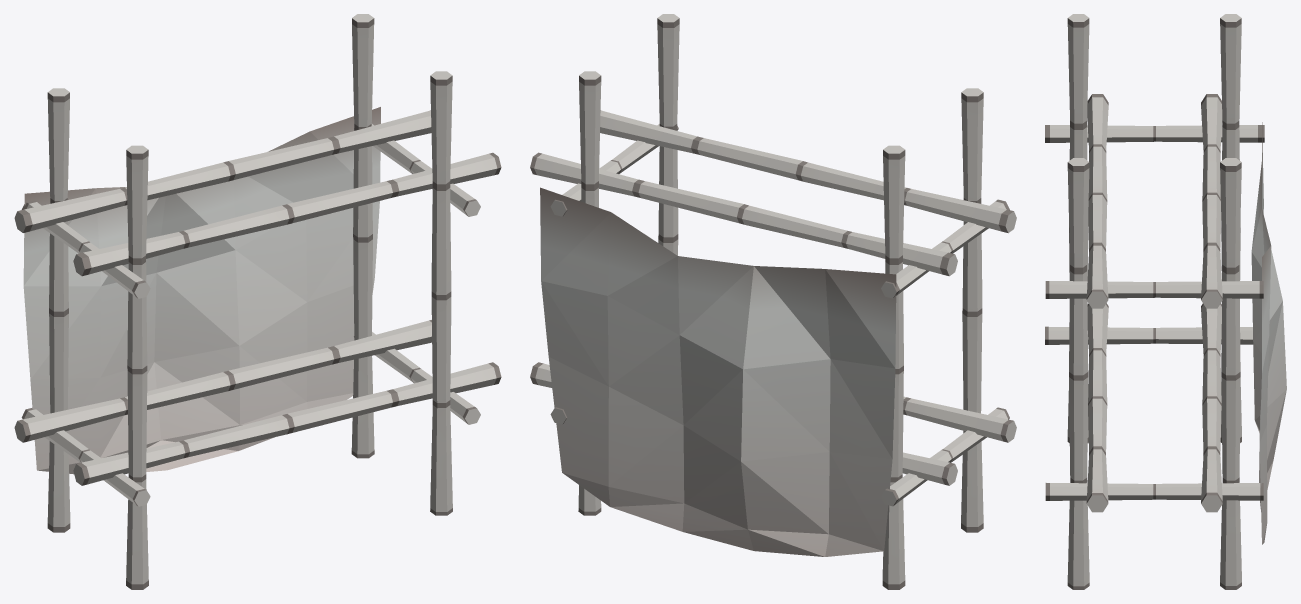
File: Bamboo_forest_1_fabric.fbx
3 renders of one model, left to right at view 1: azimuth 30°, elevation 25°; view 2: azimuth 150°, elevation 25°; view 3: azimuth 270°, elevation 25°, orthographic. The views are drawn at different scales.
Visible parts, largest first — view 1: Bamboo_forest_1_fabric; view 2: Bamboo_forest_1_fabric; view 3: Bamboo_forest_1_fabric.
Part boxes in pixels (<box>): Bamboo_forest_1_fabric: <box>14,14,501,589</box>; Bamboo_forest_1_fabric: <box>530,14,1016,589</box>; Bamboo_forest_1_fabric: <box>1045,14,1286,589</box>.
Bounding box in the file's own units: 399 × 399 × 207.
Materials: 1 (1 with a texture image).
